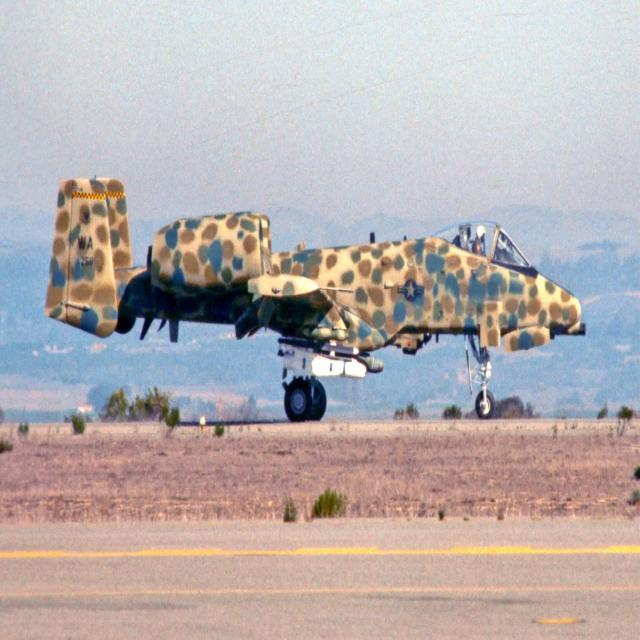MIL_Plane: (44, 175, 586, 422)
